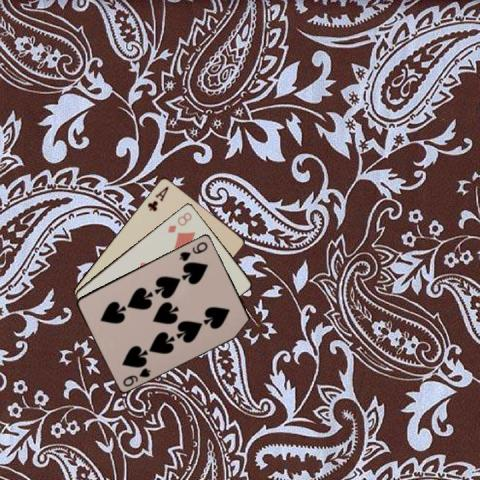8d: (165, 209, 193, 234)
9s: (176, 239, 209, 262), (120, 365, 152, 388)
Ac: (145, 182, 170, 212)
